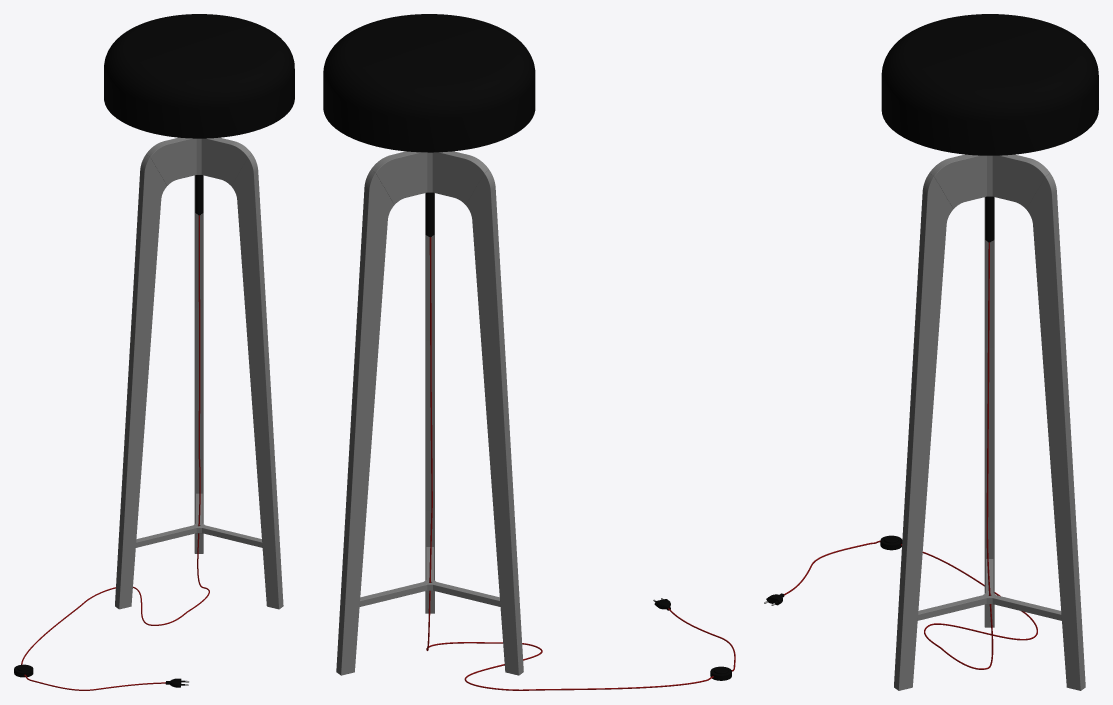
File: pileo torchere fbx.FBX
3 renders of one model, left to right at view 1: azimuth 30°, elevation 25°; view 2: azimuth 150°, elevation 25°; view 3: azimuth 270°, elevation 25°, orthographic. The views are drawn at different scales.
Visible parts, largest first — view 1: Group001, Line002, Line006, Line03; view 2: Group001, Line002, Line006, Line03; view 3: Group001, Line002, Line006, Line03.
Part boxes in pixels (bbox=[...]): Group001: bbox=[115, 154, 283, 609]; Line002: bbox=[104, 14, 294, 138]; Line006: bbox=[146, 137, 252, 185]; Line03: bbox=[21, 215, 209, 690]; Group001: bbox=[336, 170, 523, 675]; Line002: bbox=[323, 14, 535, 152]; Line006: bbox=[371, 151, 488, 204]; Line03: bbox=[426, 237, 735, 690]; Group001: bbox=[894, 173, 1085, 690]; Line002: bbox=[881, 14, 1098, 155]; Line006: bbox=[929, 154, 1049, 208]; Line03: bbox=[784, 242, 1037, 669].
Size of the model in its own units: 919 by 1534 by 755.
